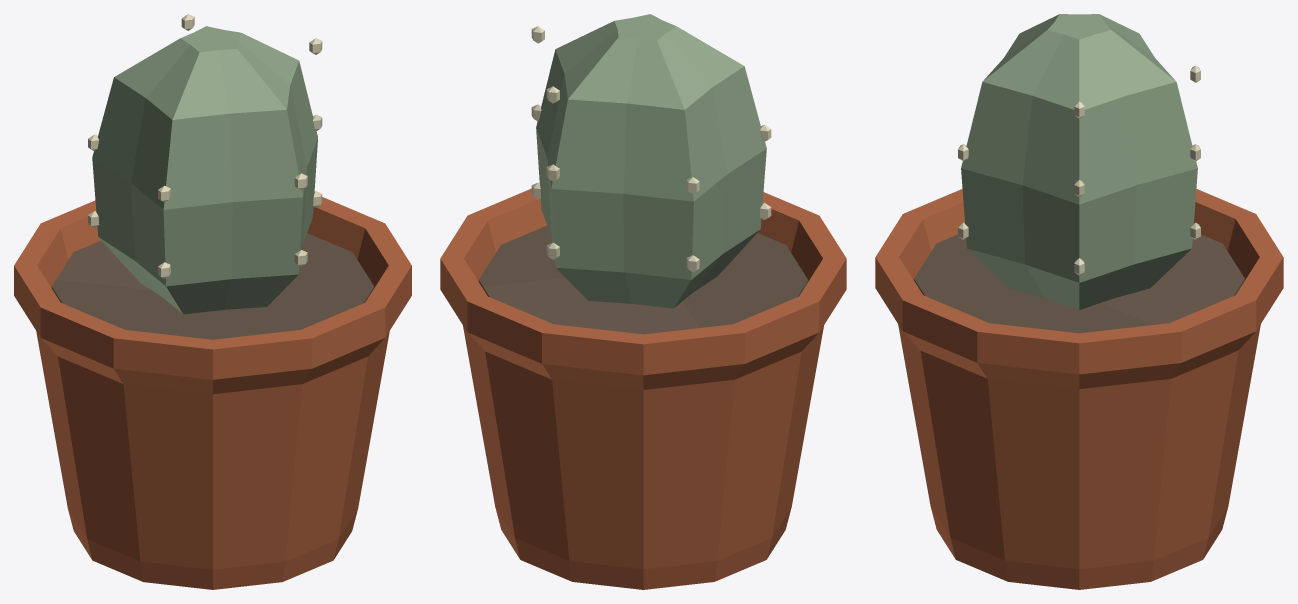
The model's file is new-myriostigma.glb.
The picture shows the model from 3 angles, left to right: view 1: azimuth 30°, elevation 25°; view 2: azimuth 150°, elevation 25°; view 3: azimuth 270°, elevation 25°; orthographic projection. The views are drawn at different scales.
Visible parts, largest first — view 1: new-myriostigma/review-terra-vessel, new-myriostigma/ribbed-stem-001, new-myriostigma/review-rooted-soil; view 2: new-myriostigma/review-terra-vessel, new-myriostigma/ribbed-stem-001, new-myriostigma/review-rooted-soil; view 3: new-myriostigma/review-terra-vessel, new-myriostigma/ribbed-stem-001, new-myriostigma/review-rooted-soil.
Part boxes in pixels (x1,y1,x2,y2): new-myriostigma/review-terra-vessel: (14, 197, 411, 589); new-myriostigma/ribbed-stem-001: (92, 26, 317, 314); new-myriostigma/review-rooted-soil: (51, 233, 374, 339); new-myriostigma/review-terra-vessel: (440, 188, 846, 589); new-myriostigma/ribbed-stem-001: (536, 14, 766, 308); new-myriostigma/review-rooted-soil: (478, 225, 808, 334); new-myriostigma/review-terra-vessel: (875, 189, 1283, 589); new-myriostigma/ribbed-stem-001: (961, 14, 1197, 309); new-myriostigma/review-rooted-soil: (914, 234, 1244, 333).
Size of the model in its own units: 0.19 by 0.259 by 0.19.
Materials: 4 (4 with a texture image).
